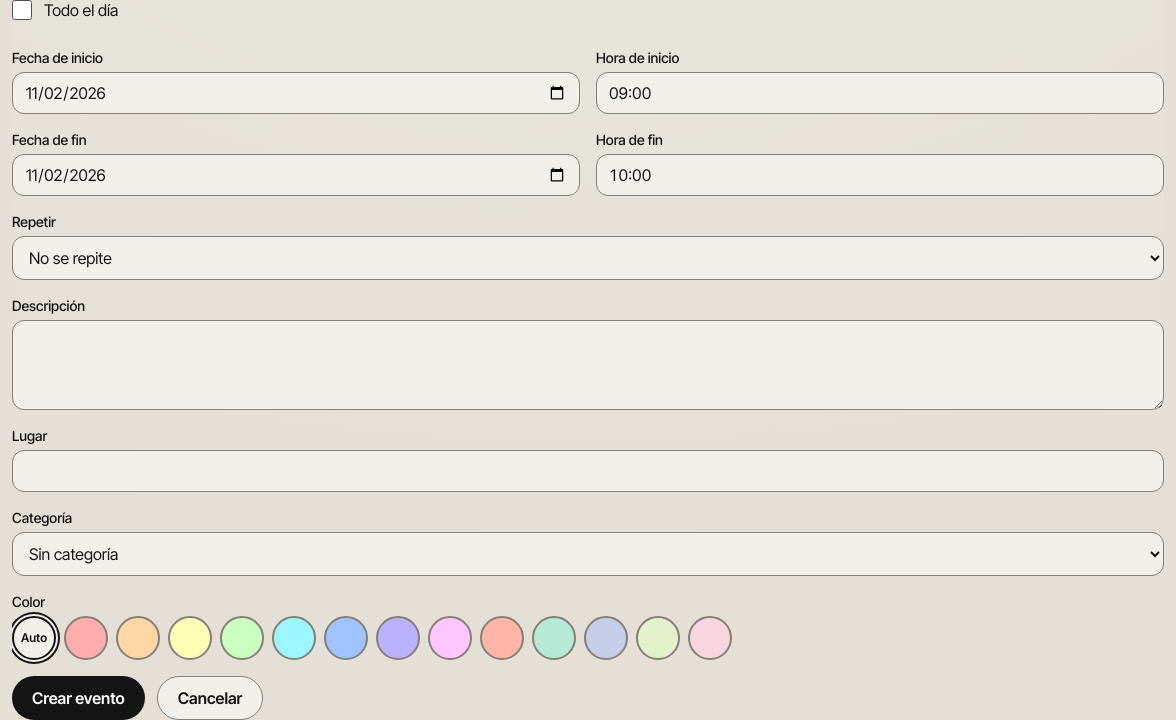
EventForm (RF-15, RF-16) › disables the button while the action is pending
(page scrolled)
Click the button "Crear evento". click: (78,698)
box: [12,676,145,719]
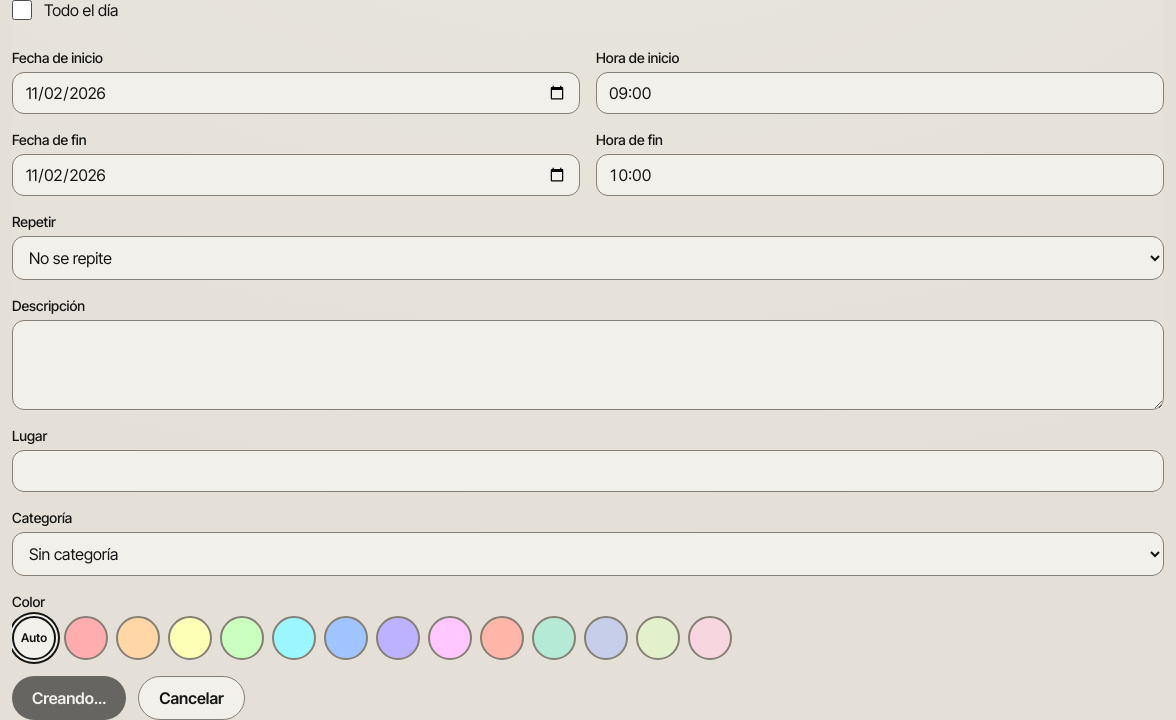
expect the button "Creando…" is disabled: met, box [12,676,126,719]
